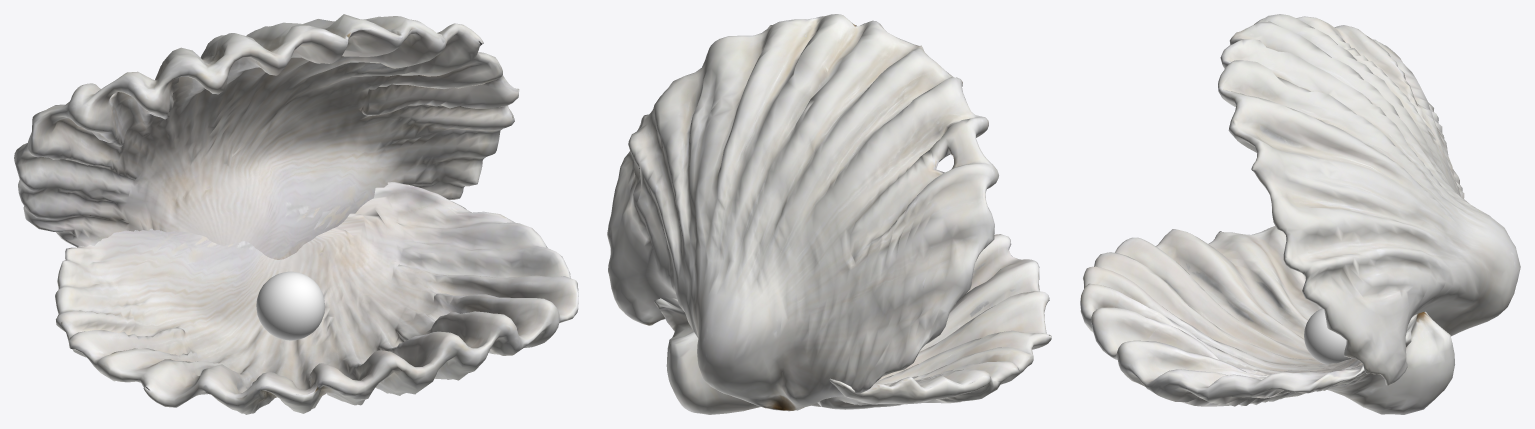
File: Seashell.glb
3 renders of one model, left to right at view 1: azimuth 30°, elevation 25°; view 2: azimuth 150°, elevation 25°; view 3: azimuth 270°, elevation 25°, orthographic. The views are drawn at different scales.
Parts seen in each view (by area): view 1: Mesh_0.001, Mesh_0, Sphere; view 2: Mesh_0.001, Mesh_0; view 3: Mesh_0.001, Mesh_0, Sphere.
Part boxes in pixels (x1=…): Mesh_0.001: x1=14, y1=14, x2=519, y2=259; Mesh_0: x1=55, y1=182, x2=578, y2=414; Sphere: x1=256, y1=271, x2=324, y2=340; Mesh_0.001: x1=607, y1=14, x2=998, y2=411; Mesh_0: x1=654, y1=234, x2=1051, y2=414; Mesh_0.001: x1=1218, y1=14, x2=1520, y2=385; Mesh_0: x1=1080, y1=226, x2=1454, y2=414; Sphere: x1=1304, y1=308, x2=1351, y2=364.
Bounding box in the file's own units: 1.98 × 1.61 × 1.94.
3 materials, 2 textured.
